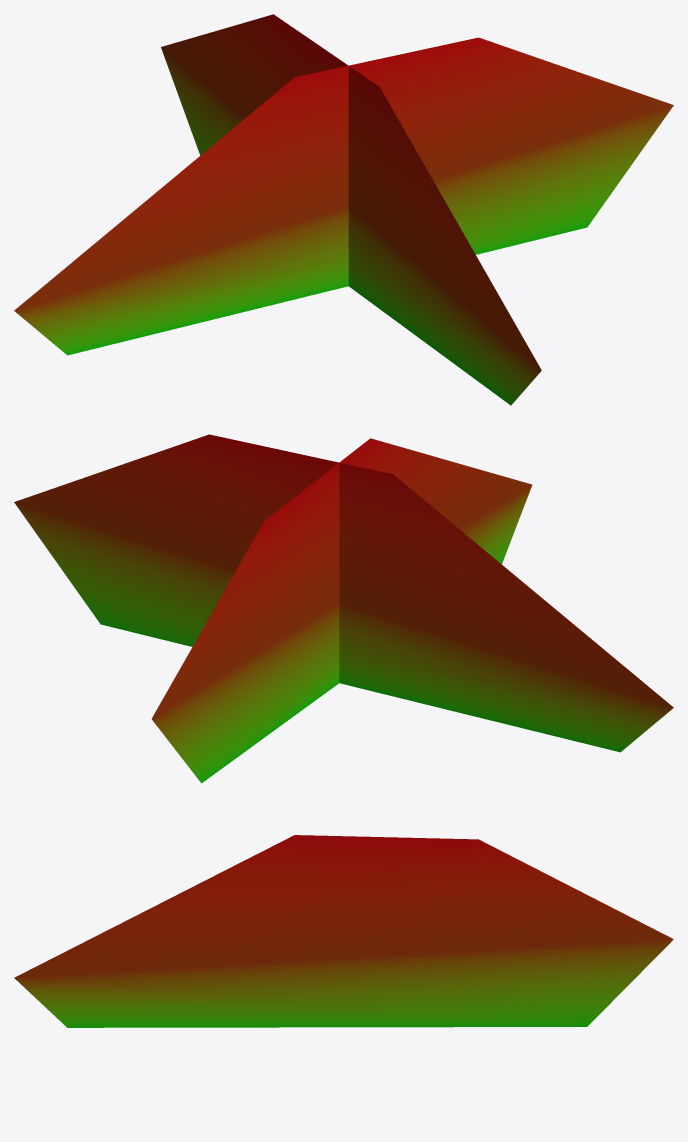
Rendered from Blackberry_LOD4_Var3_vkmofctha.fbx.
3 views of the same model, one above another, from view 1: azimuth 30°, elevation 25°; view 2: azimuth 150°, elevation 25°; view 3: azimuth 270°, elevation 25° (orthographic). The views are drawn at different scales.
Parts seen in each view (by area): view 1: _2q8x_Var3_LOD4; view 2: _2q8x_Var3_LOD4; view 3: _2q8x_Var3_LOD4.
Boxes of the visible parts, <box> form: _2q8x_Var3_LOD4: <box>14,14,673,405</box>; _2q8x_Var3_LOD4: <box>14,434,673,783</box>; _2q8x_Var3_LOD4: <box>14,835,673,1027</box>.
Bounding box in the file's own units: 187 × 60.34 × 187.
